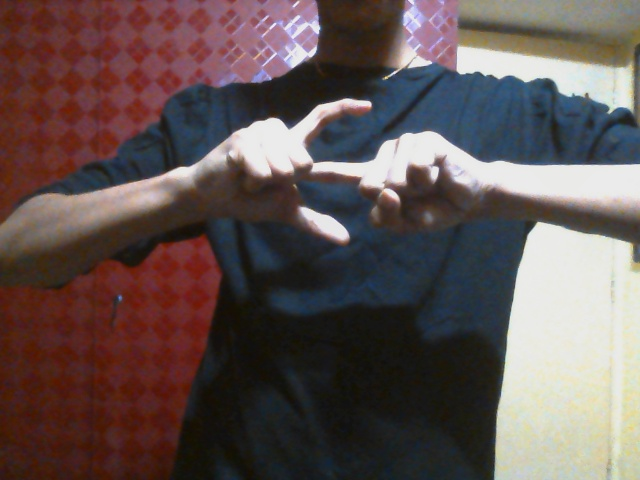E: (199, 97, 485, 254)
